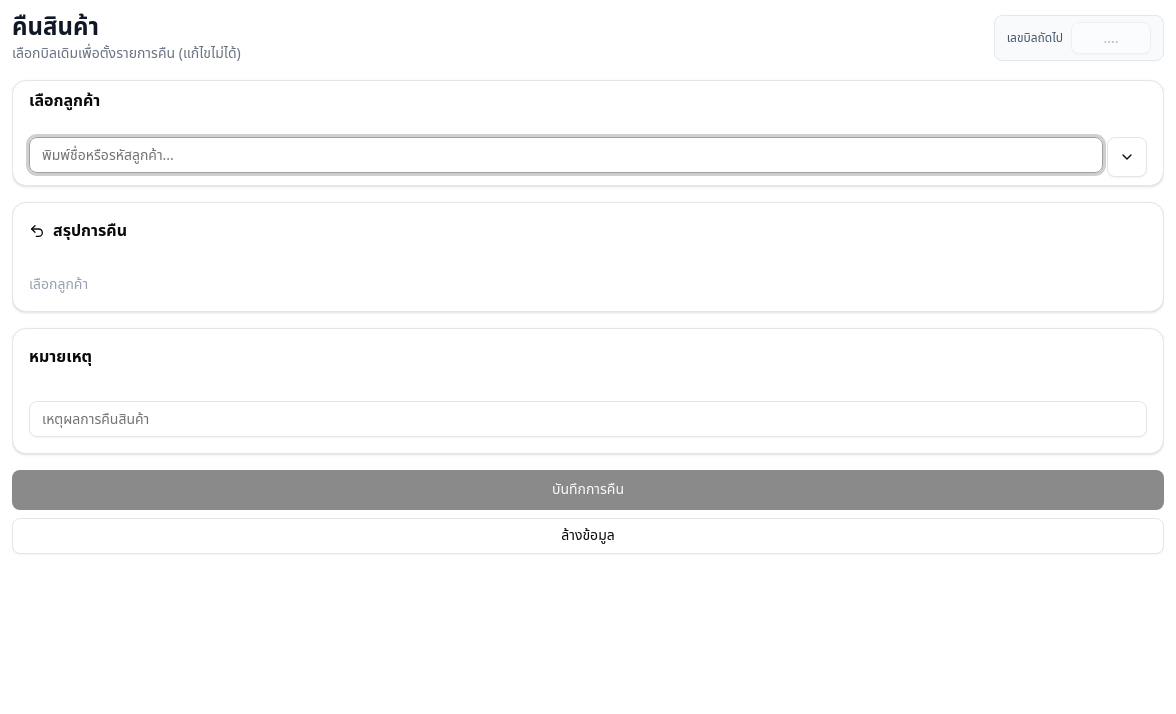
it: returns page › shows only the latest five returnable bills
Click the button named "เปิดรายชื่อลูกค้า (เรียง ก-ฮ)": (1127, 157) [1107,137,1147,177]
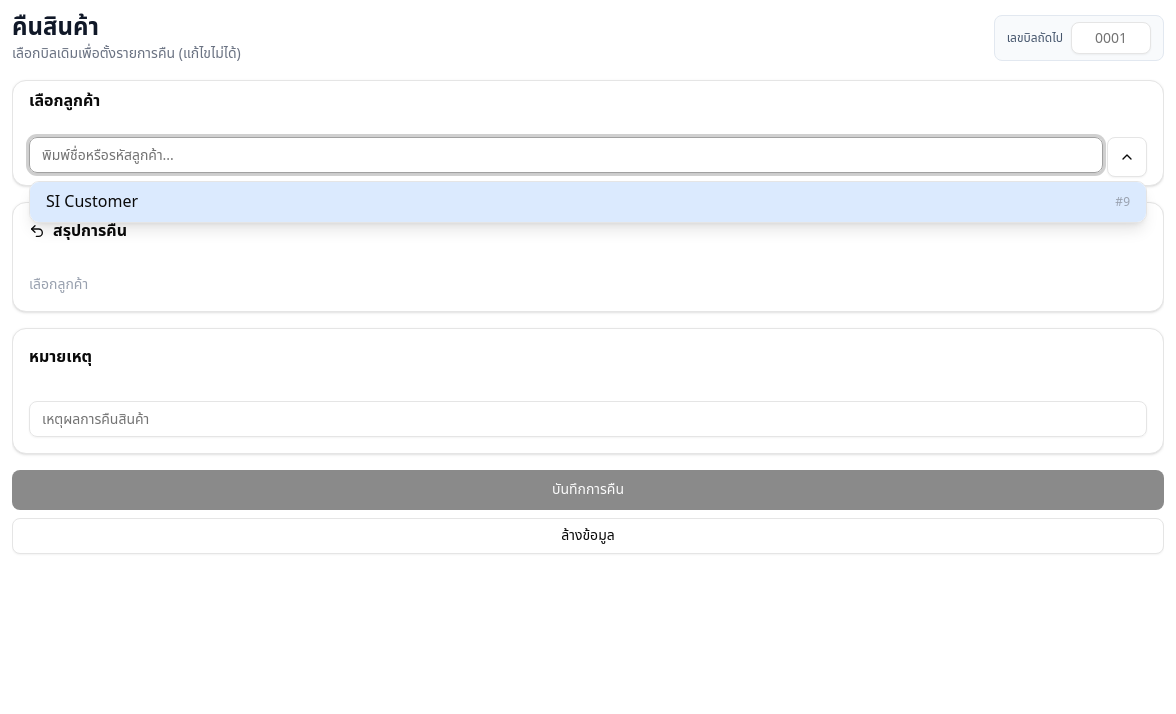
Expected: the button "SI Customer #9" is shown
Click the button "SI Customer #9": (92, 202) [30,182,1146,222]
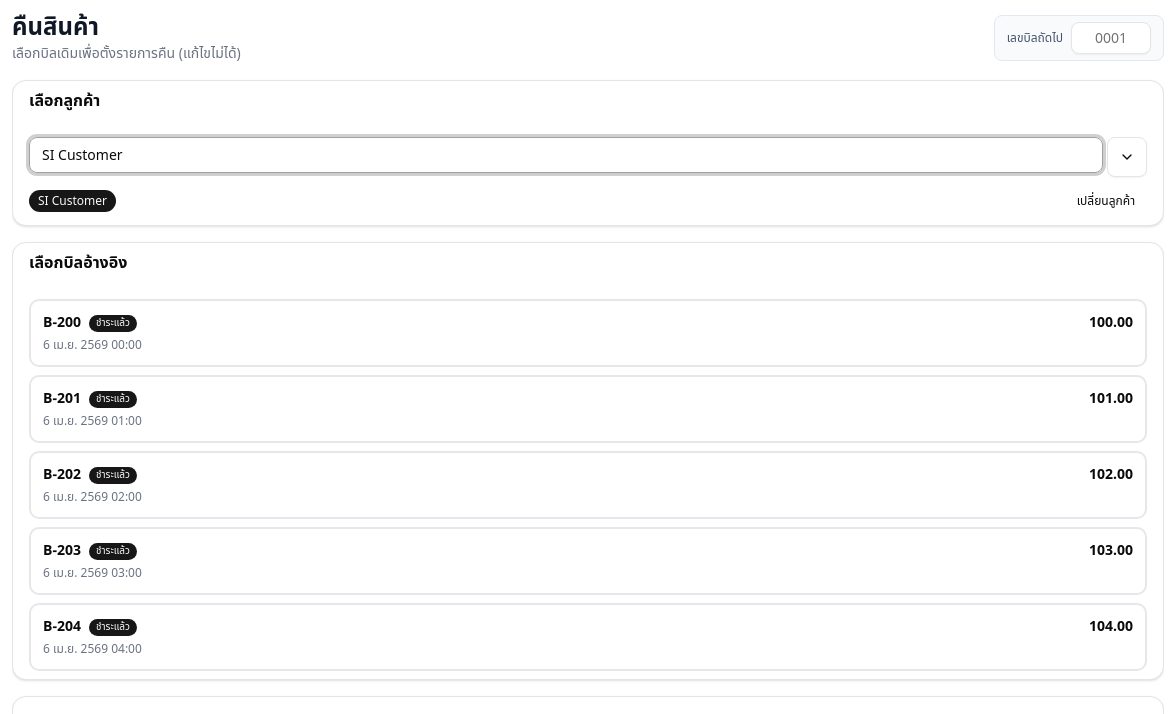
Expected: the text "B-200" is shown, [43,313,81,333]
Expected: the text "B-204" is shown, [43,617,81,637]
